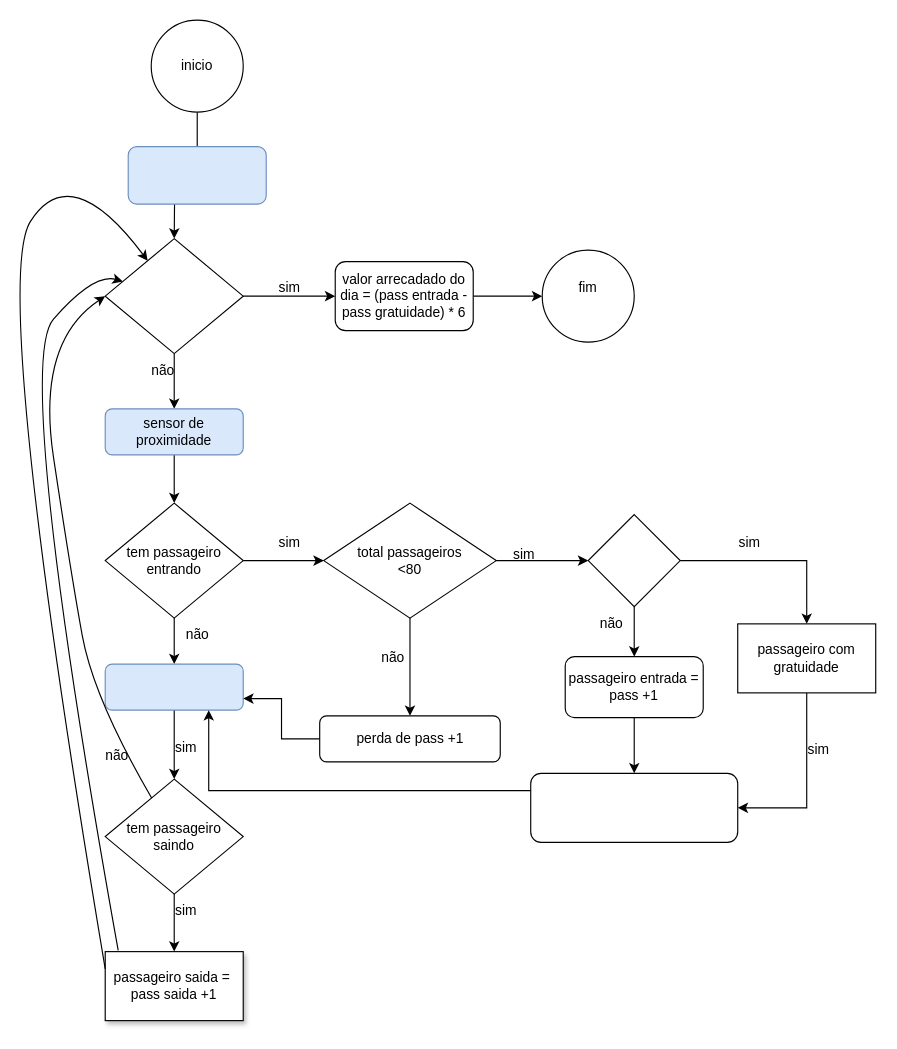
Image size: 897x1049. Some labels were removed from this diagram. The shapes that lost their labels are listed below. From the top down, each one's centre as x and y in pixels, then its label:
the point at 196,174: botão de final do dia
the point at 173,295: fim do dia
the point at 633,560: passageiro <10 e >=60?
the point at 173,686: sensor de saida
the point at 634,807: total de passageiros = (pass entrada + pass gratuidade) - pass saida
